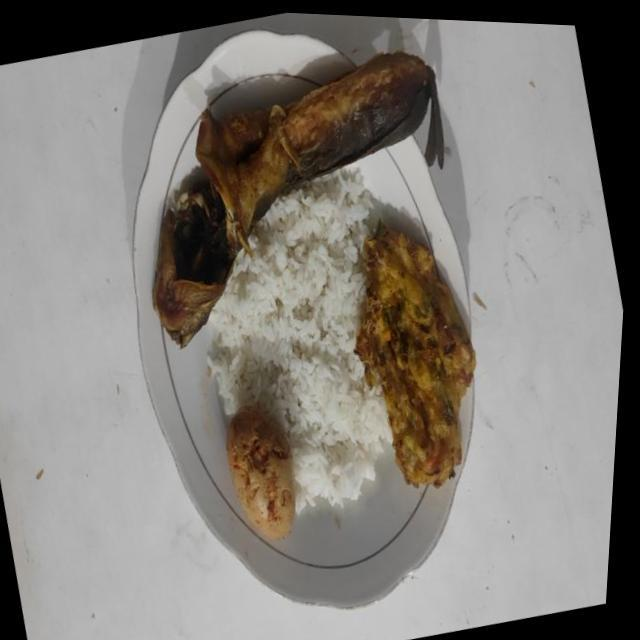nasi_putih: (208, 167, 392, 514)
